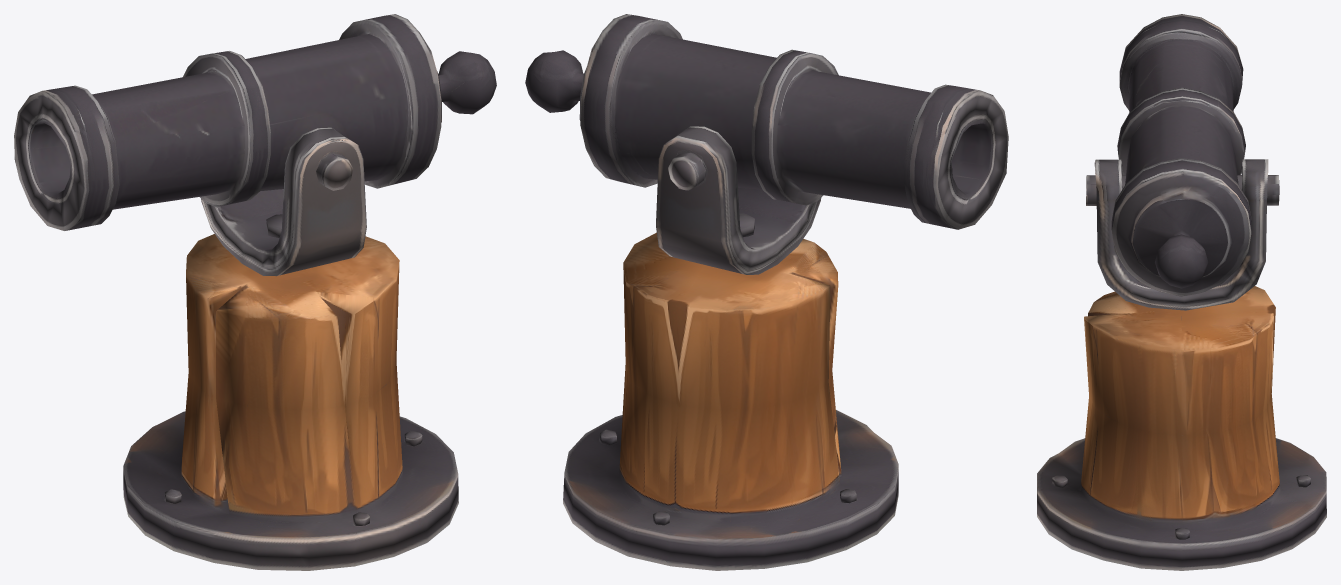
Rendered from meshy-b-1000.glb.
3 views of the same model, side by side, from view 1: azimuth 30°, elevation 25°; view 2: azimuth 150°, elevation 25°; view 3: azimuth 270°, elevation 25° (orthographic). The views are drawn at different scales.
Bounding box in the file's own units: 1 × 0.9989 × 0.6611.
Materials: 1 (1 with a texture image).
